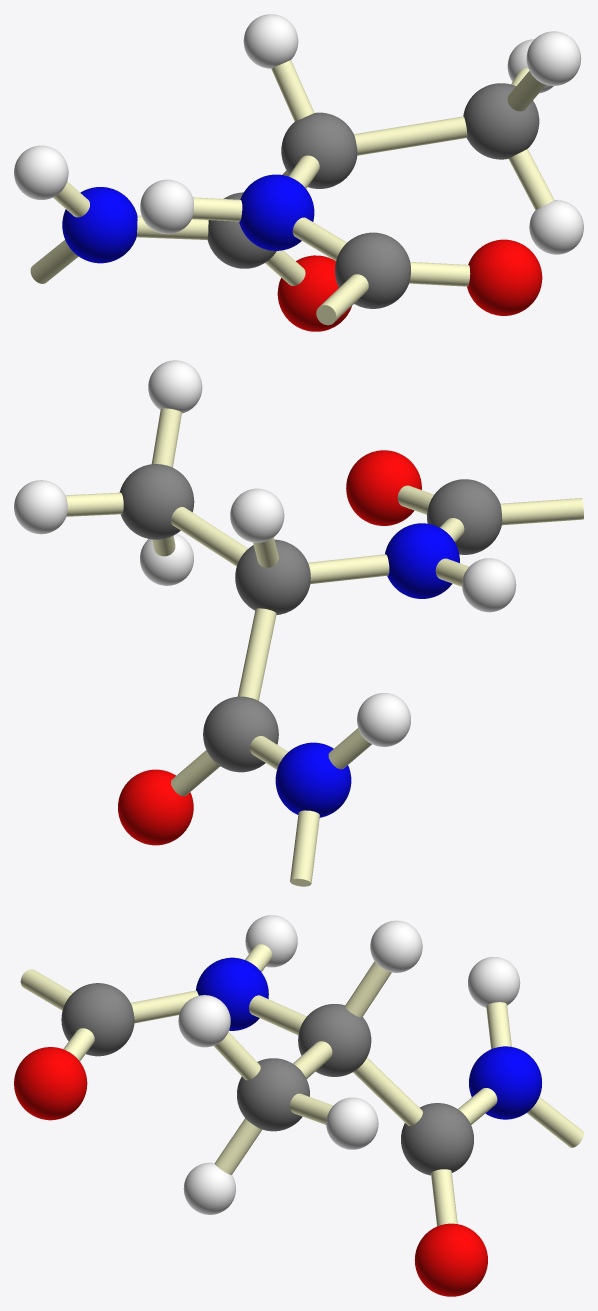
Rendered from conformation.gltf.
The picture shows the model from 3 angles, top to bottom: view 1: azimuth 30°, elevation 25°; view 2: azimuth 150°, elevation 25°; view 3: azimuth 270°, elevation 25°; orthographic projection. The views are drawn at different scales.
Visible parts, largest first — view 1: ?????????2, ?????????3, ?????????13, ?????????9, ?????????1, ?????????4, ?????????6, ?????????22, ?????????10, ?????????14, ?????????7, ?????????8 (+15 smaller); view 2: ?????????6, ?????????13, ?????????9, ?????????2, ?????????5, ?????????3, ?????????4, ?????????1, ?????????8, ?????????7, ?????????11, ?????????14 (+13 smaller); view 3: ?????????2, ?????????6, ?????????5, ?????????13, ?????????1, ?????????9, ?????????4, ?????????3, ?????????10, ?????????11, ?????????8, ?????????12 (+16 smaller).
Boxes of the visible parts, box(x1,y1,x2,y2) form: ?????????2: box(467, 239, 542, 315); ?????????3: box(239, 174, 314, 250); ?????????13: box(62, 187, 137, 263); ?????????9: box(463, 83, 539, 159); ?????????1: box(335, 232, 410, 308); ?????????4: box(281, 112, 357, 188); ?????????6: box(277, 255, 351, 331); ?????????22: box(354, 116, 467, 155); ?????????10: box(526, 31, 581, 85); ?????????14: box(14, 145, 68, 199); ?????????7: box(140, 179, 193, 234); ?????????8: box(243, 14, 298, 68); ?????????6: box(118, 769, 193, 845); ?????????13: box(275, 742, 351, 817); ?????????9: box(119, 464, 194, 539); ?????????2: box(346, 450, 421, 525); ?????????5: box(203, 696, 278, 772); ?????????3: box(385, 523, 459, 598); ?????????4: box(235, 539, 310, 614); ?????????1: box(427, 479, 502, 554); ?????????8: box(230, 488, 284, 542); ?????????7: box(462, 558, 516, 612); ?????????11: box(14, 480, 67, 534); ?????????14: box(357, 693, 410, 746); ?????????2: box(14, 1047, 87, 1120); ?????????6: box(414, 1223, 487, 1296); ?????????5: box(401, 1103, 473, 1175); ?????????13: box(469, 1046, 541, 1119); ?????????1: box(61, 983, 134, 1056); ?????????9: box(237, 1058, 309, 1131); ?????????4: box(298, 1004, 371, 1076); ?????????3: box(196, 957, 268, 1030); ?????????10: box(178, 995, 230, 1047); ?????????11: box(326, 1097, 378, 1149); ?????????8: box(370, 920, 422, 972); ?????????12: box(183, 1162, 235, 1214).
Size of the model in its own units: 49.36 by 36.55 by 54.45.
